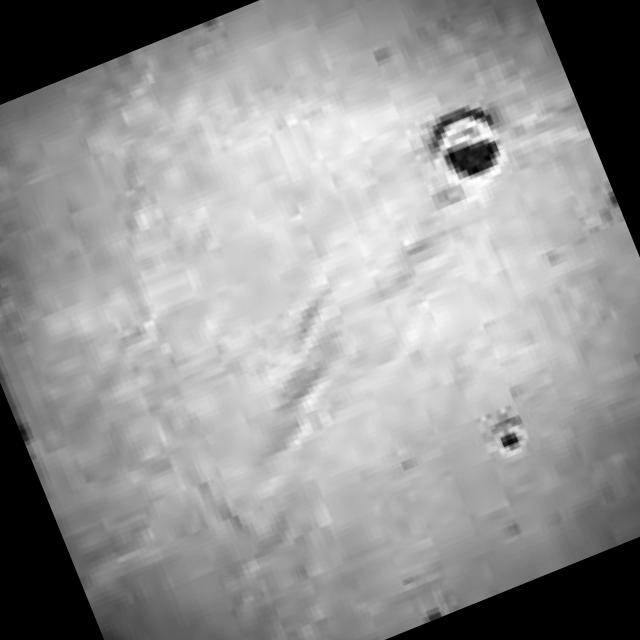crater: (426, 108, 509, 188), (492, 420, 530, 452)
